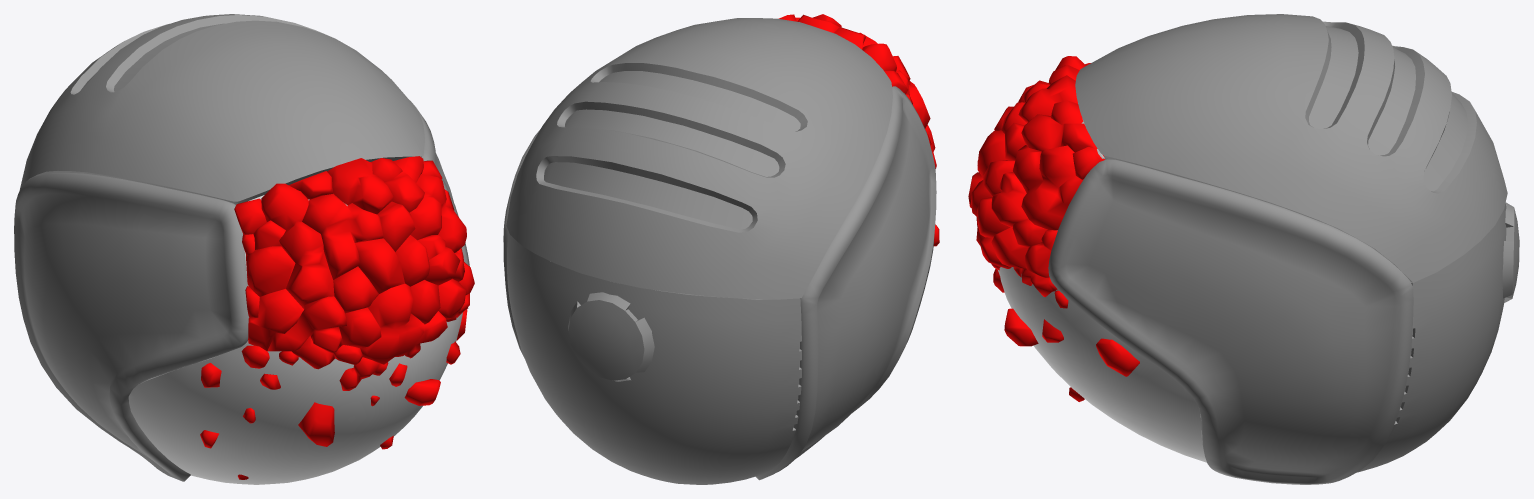
The model's file is SpaceShip_Terraformers_Pod_A.fbx.
3 views of the same model, side by side, from view 1: azimuth 30°, elevation 25°; view 2: azimuth 150°, elevation 25°; view 3: azimuth 270°, elevation 25° (orthographic). The views are drawn at different scales.
Parts seen in each view (by area): view 1: Geom_Diorama_Space_Pod_A_Metal_LOD00, Geom_Diorama_Space_Pod_A_Glass_LOD00; view 2: Geom_Diorama_Space_Pod_A_Metal_LOD00; view 3: Geom_Diorama_Space_Pod_A_Metal_LOD00, Geom_Diorama_Space_Pod_A_Glass_LOD00.
Part boxes in pixels (x1=…): Geom_Diorama_Space_Pod_A_Metal_LOD00: x1=14, y1=14, x2=474, y2=481; Geom_Diorama_Space_Pod_A_Glass_LOD00: x1=128, y1=195, x2=462, y2=484; Geom_Diorama_Space_Pod_A_Metal_LOD00: x1=503, y1=14, x2=939, y2=484; Geom_Diorama_Space_Pod_A_Metal_LOD00: x1=968, y1=14, x2=1519, y2=484; Geom_Diorama_Space_Pod_A_Glass_LOD00: x1=998, y1=119, x2=1206, y2=462.
Size of what is drawn, in the model's own units: 359 by 398 by 470.
